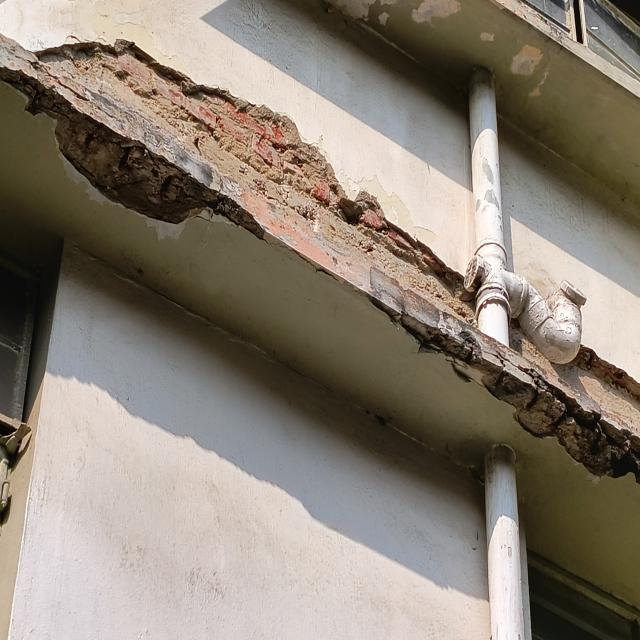peeling: (320, 0, 569, 105)
spalling: (0, 35, 640, 482)
